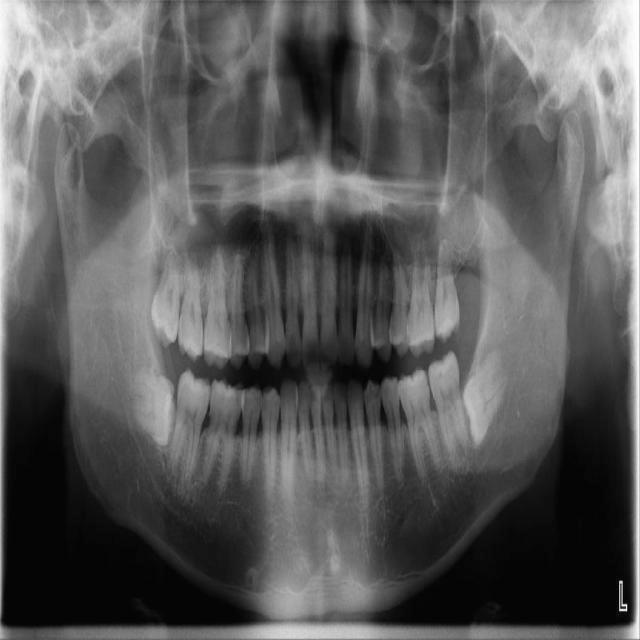impacted tooth: (460, 349, 511, 445), (120, 371, 178, 443)
